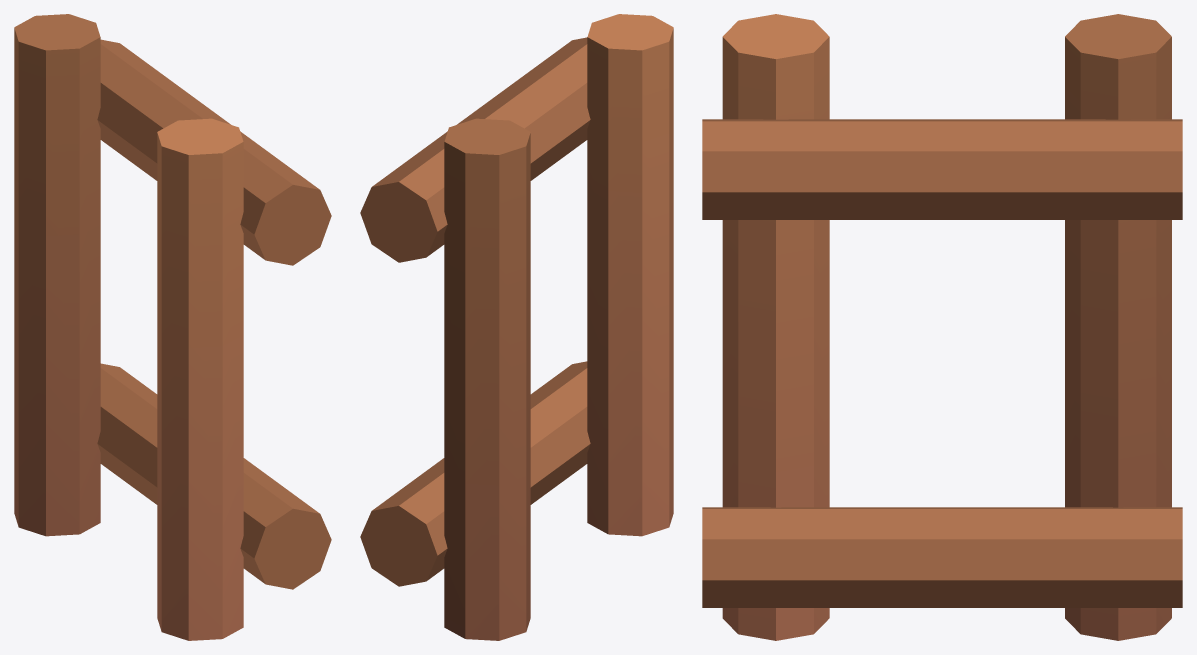
The model's file is LogFence1.fbx.
3 views of the same model, side by side, from view 1: azimuth 30°, elevation 25°; view 2: azimuth 150°, elevation 25°; view 3: azimuth 270°, elevation 25° (orthographic). The views are drawn at different scales.
Parts seen in each view (by area): view 1: Cylinder.068; view 2: Cylinder.068; view 3: Cylinder.068.
Part boxes in pixels (left/top/right/bottom): Cylinder.068: left=14, top=14, right=331, bottom=640; Cylinder.068: left=360, top=14, right=673, bottom=640; Cylinder.068: left=702, top=14, right=1182, bottom=640.
Bounding box in the file's own units: 45 × 150 × 112.
